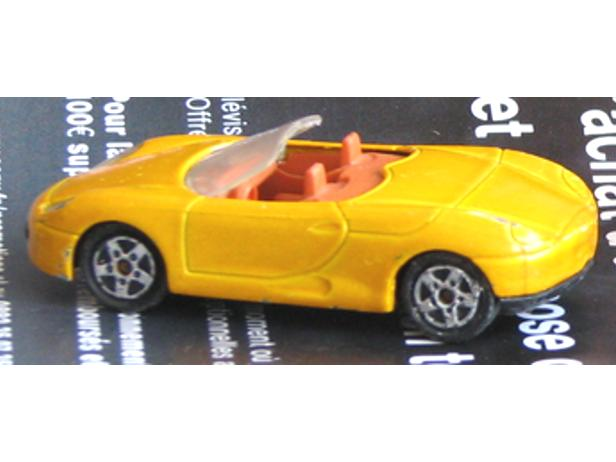toy-car: (25, 114, 598, 344)
